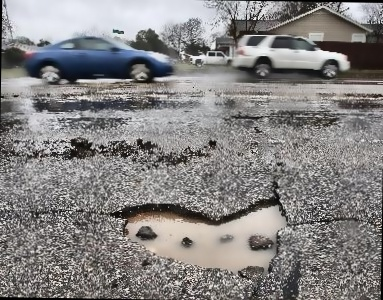pothole: (113, 194, 291, 277), (36, 95, 159, 114), (343, 90, 383, 99)
